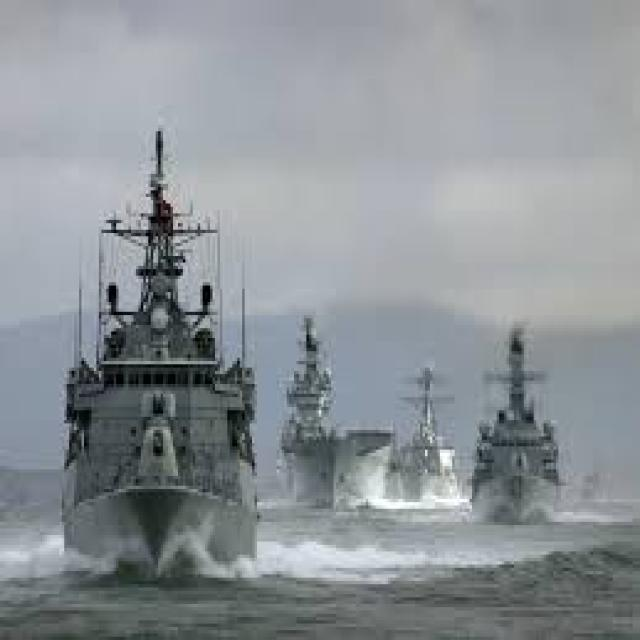navalvessels: (54, 120, 262, 580), (262, 308, 348, 485)
